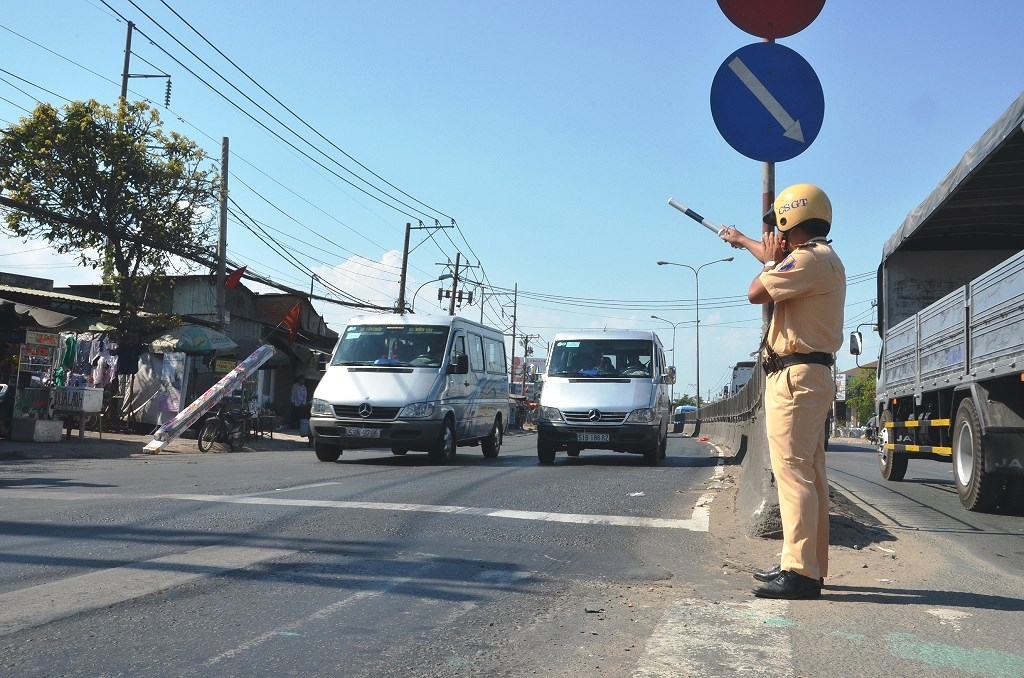police: (699, 183, 863, 599)
